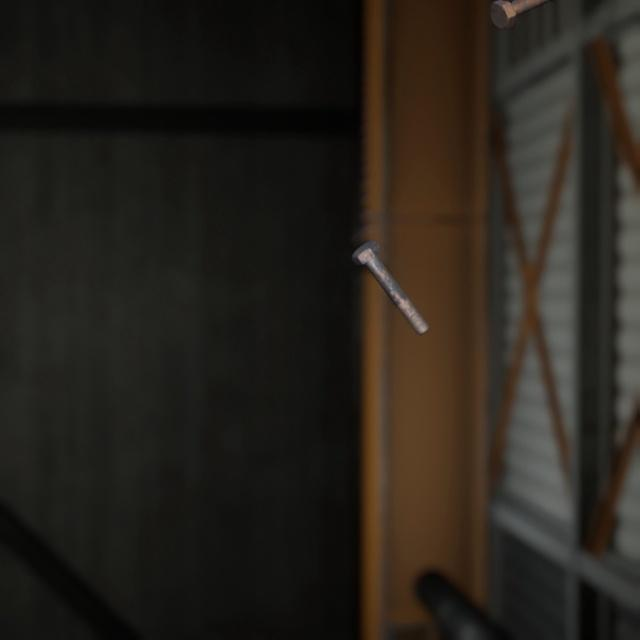bolt: (347, 220, 433, 323), (485, 0, 542, 27), (232, 614, 270, 640)
